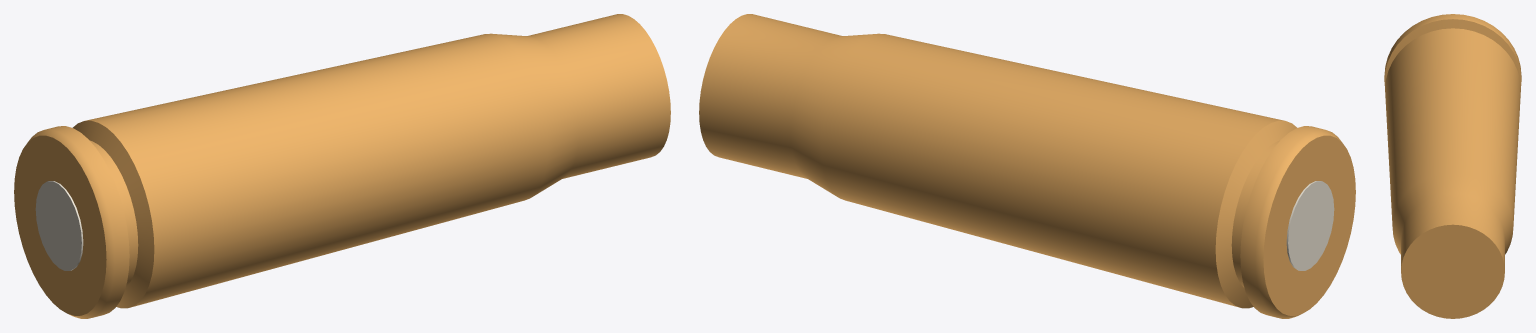
The model's file is estojo.obj.
3 views of the same model, side by side, from view 1: azimuth 30°, elevation 25°; view 2: azimuth 150°, elevation 25°; view 3: azimuth 270°, elevation 25° (orthographic). The views are drawn at different scales.
Size of the model in its own units: 0.1552 by 0.0454 by 0.0454.
